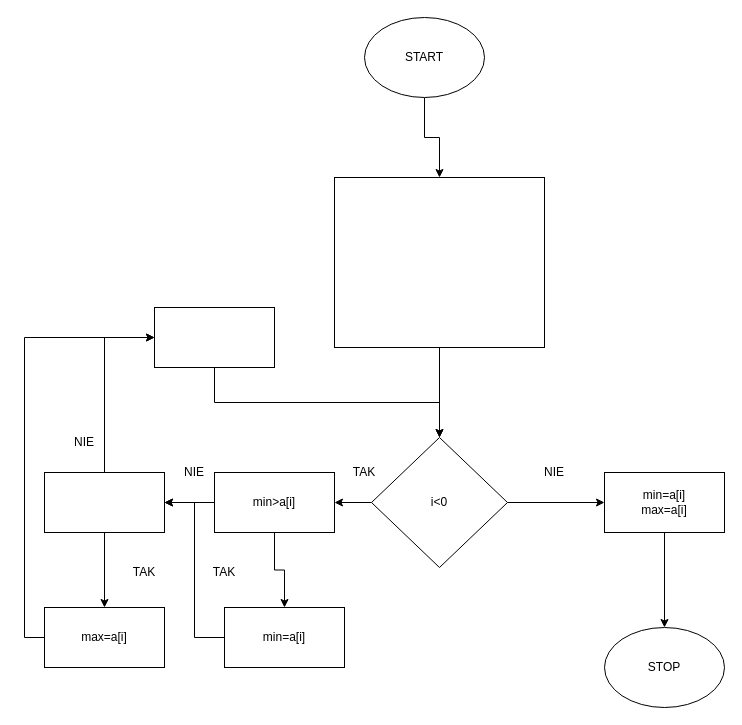
Some shapes in this 742 by 725 pixel diagram are drawn without their labels. Here are the shapes that lost their labels. From the top down, the box of each, then its label:
(334, 176, 544, 348): i=0 a= min=a[i] mas=a[i]
(154, 306, 274, 368): i = 1
(44, 472, 164, 532): max<a[i]
